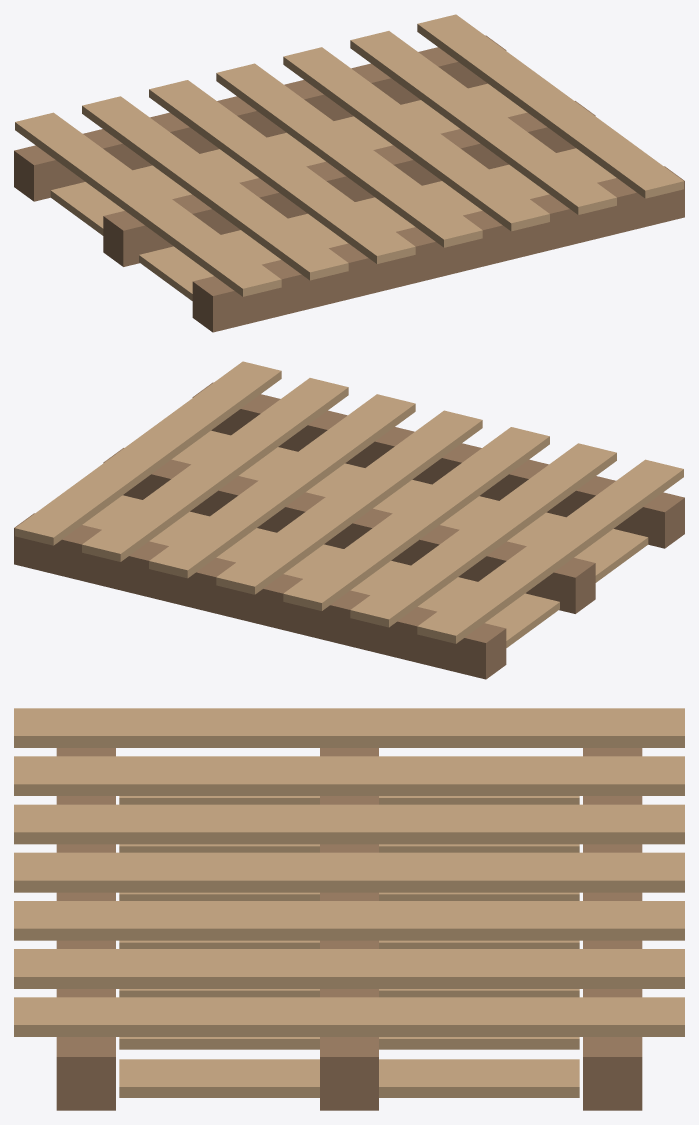
Rendered from Pallet.fbx.
The picture shows the model from 3 angles, top to bottom: view 1: azimuth 30°, elevation 25°; view 2: azimuth 150°, elevation 25°; view 3: azimuth 270°, elevation 25°; orthographic projection. The views are drawn at different scales.
Parts seen in each view (by area): view 1: LOD0; view 2: LOD0; view 3: LOD0.
Part boxes in pixels (bbox=[...]): LOD0: bbox=[14, 14, 684, 332]; LOD0: bbox=[14, 361, 684, 679]; LOD0: bbox=[14, 708, 684, 1110].
Size of what is drawn, in the model's own units: 122 by 12.5 by 102.
